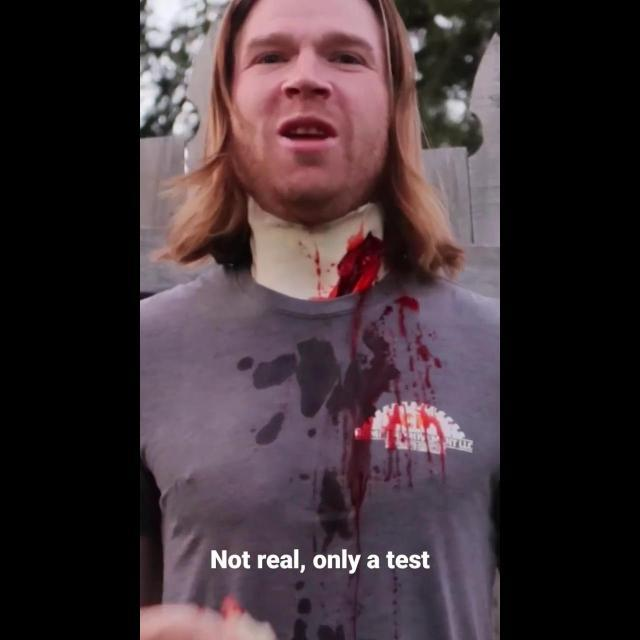blood: (317, 276, 474, 640), (310, 220, 384, 299)
